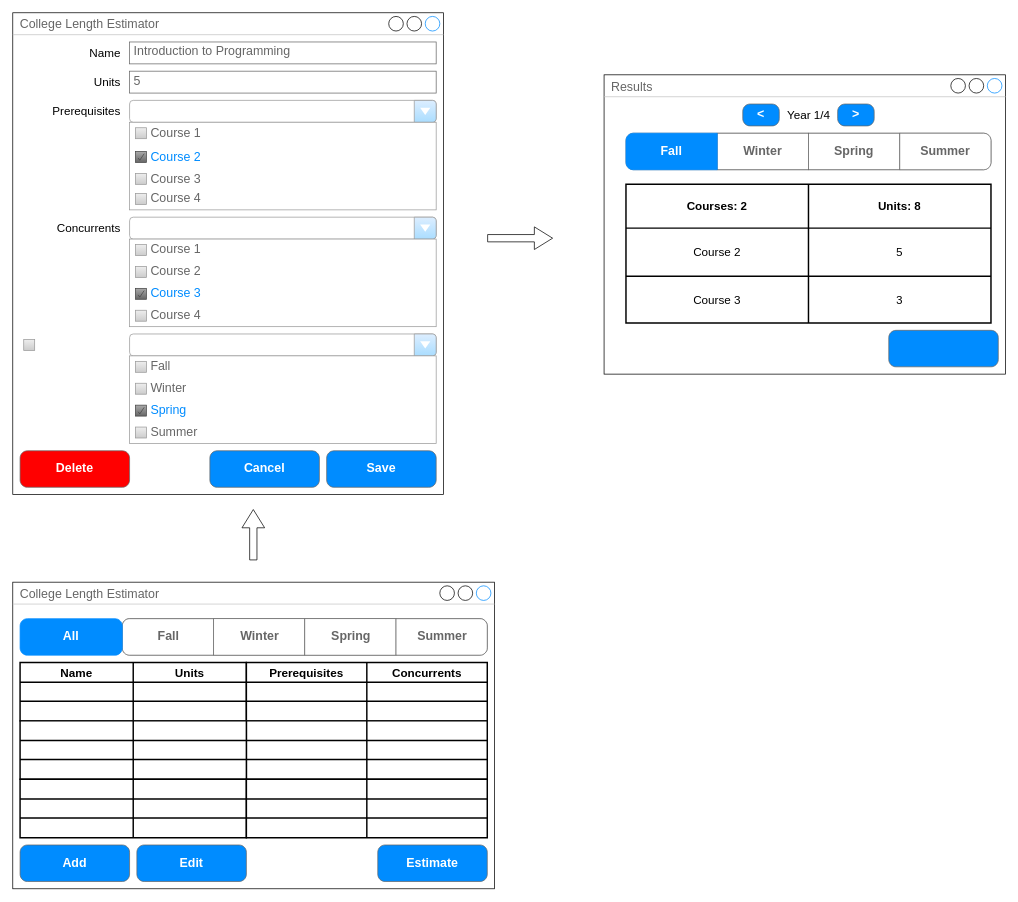
This 1018x902 diagram has some shape labels left out. The centre of each missing label's shape, as x and y in pixels:
"Close" goes at [943,348].
"Exclusive Terms" goes at [29,344].
